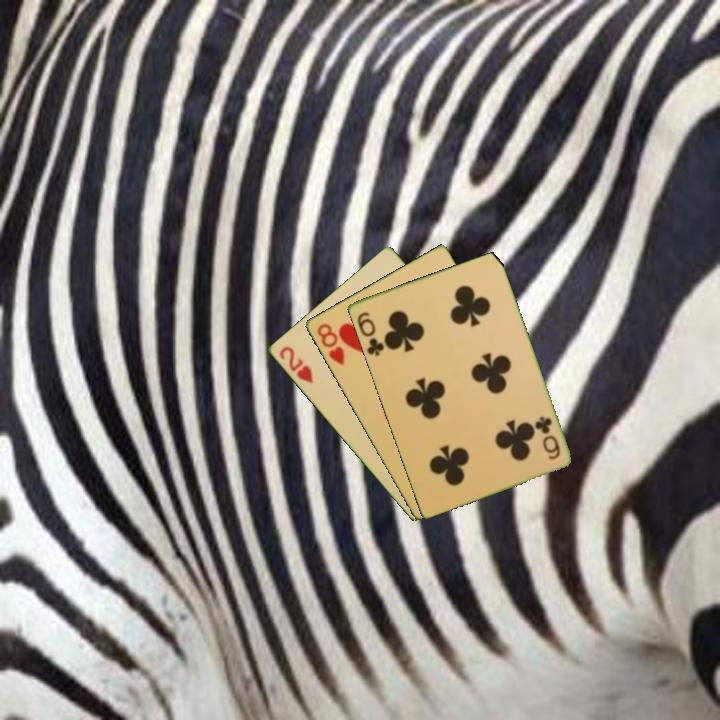2h: (275, 343, 316, 387)
6c: (353, 308, 387, 359), (531, 412, 563, 463)
8h: (313, 320, 347, 368)
